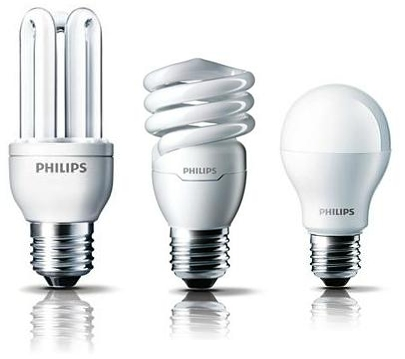Light_bulb: (5, 4, 113, 296), (140, 54, 258, 296), (275, 78, 396, 296)
